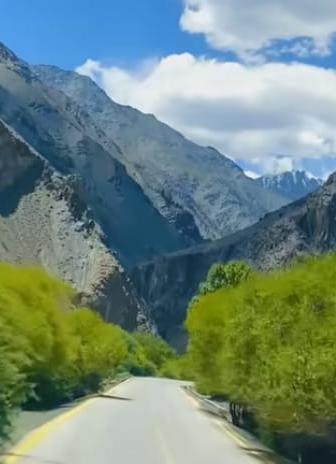sharp_turn: (95, 335, 223, 464)
